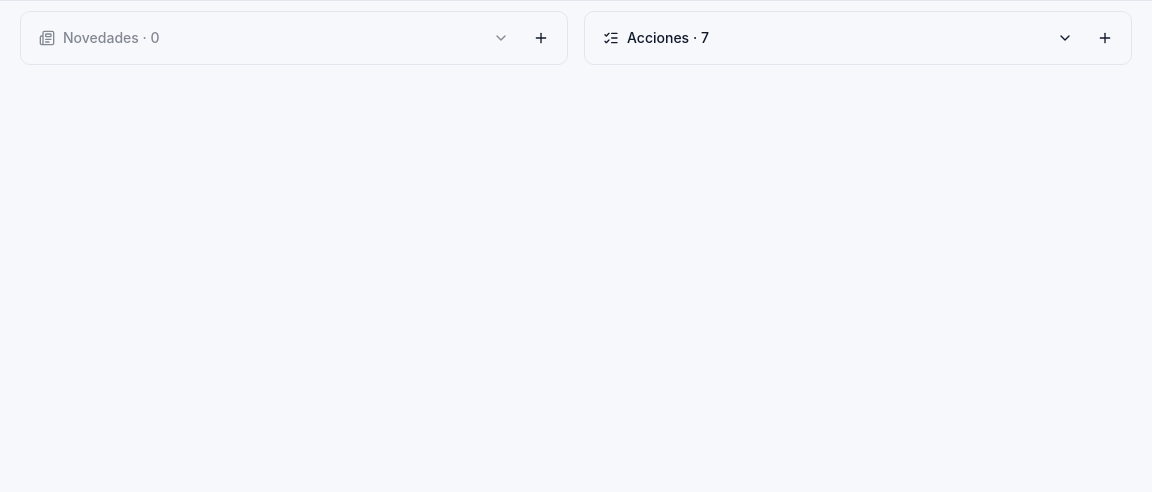
Test case: CasePortfolioFollowUp › keeps loaded actions and retries after a later page fails
This screenshot has width=1152, height=492.
Click the button "Acciones · 7": (658, 38) [593, 22, 1083, 54]
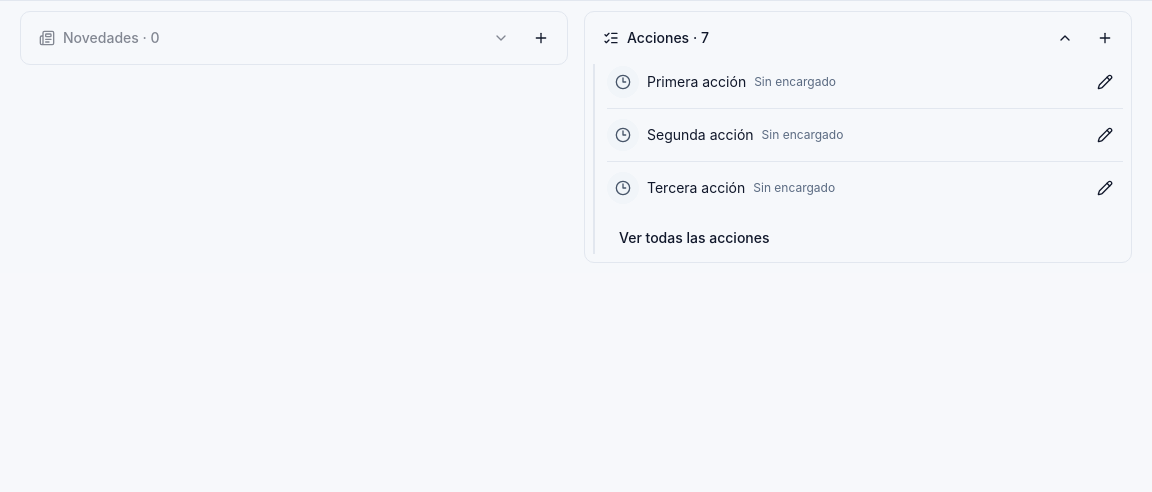
Click the button "Ver todas las acciones": (694, 238) [607, 222, 782, 254]
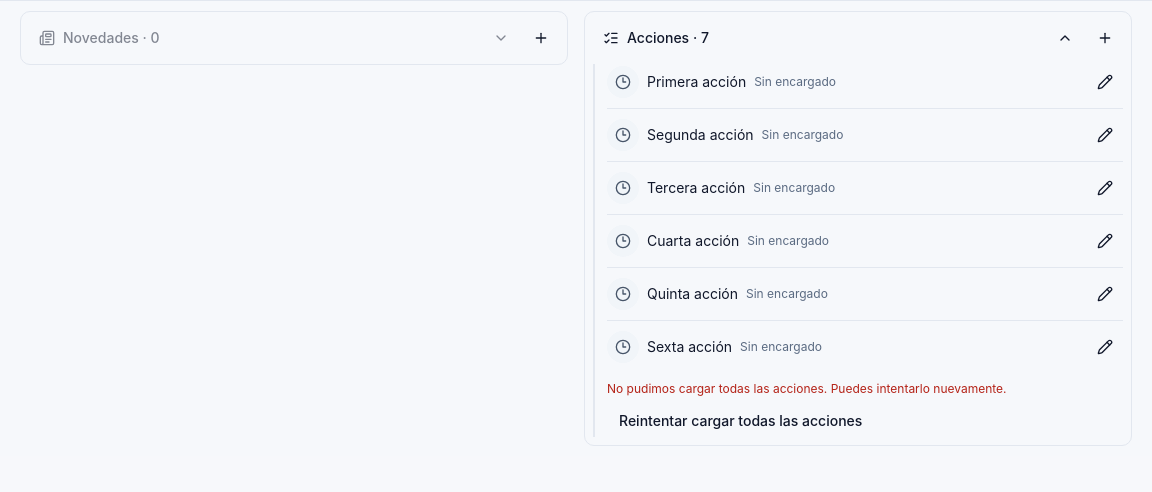
expect the text "Sexta acción" is shown: met, box [647, 337, 732, 357]
expect the message shows "No pudimos cargar todas las acciones": met, box [607, 381, 1006, 396]
Click the button "Reintentar cargar todas las acciones": (741, 421) [607, 405, 874, 437]
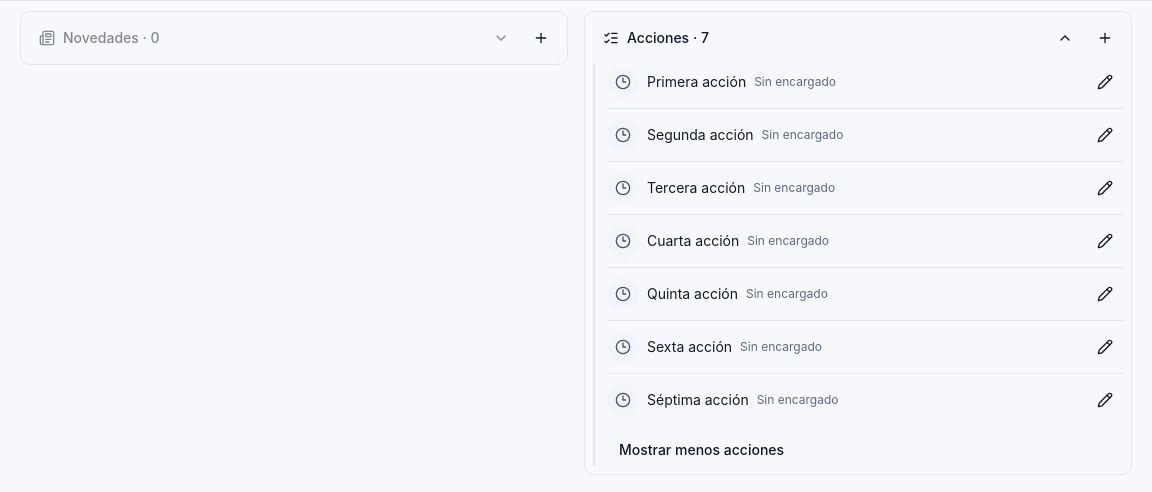
expect the text "Séptima acción" is shown: met, box [647, 390, 749, 410]
